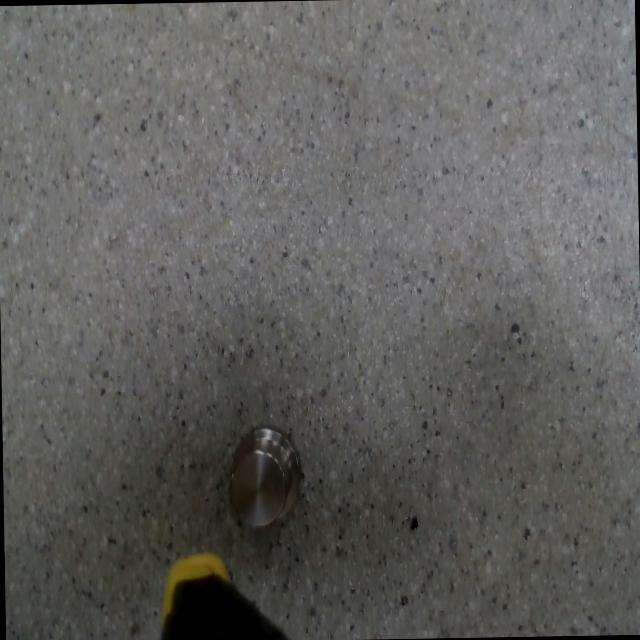sensor: (226, 424, 304, 529)
